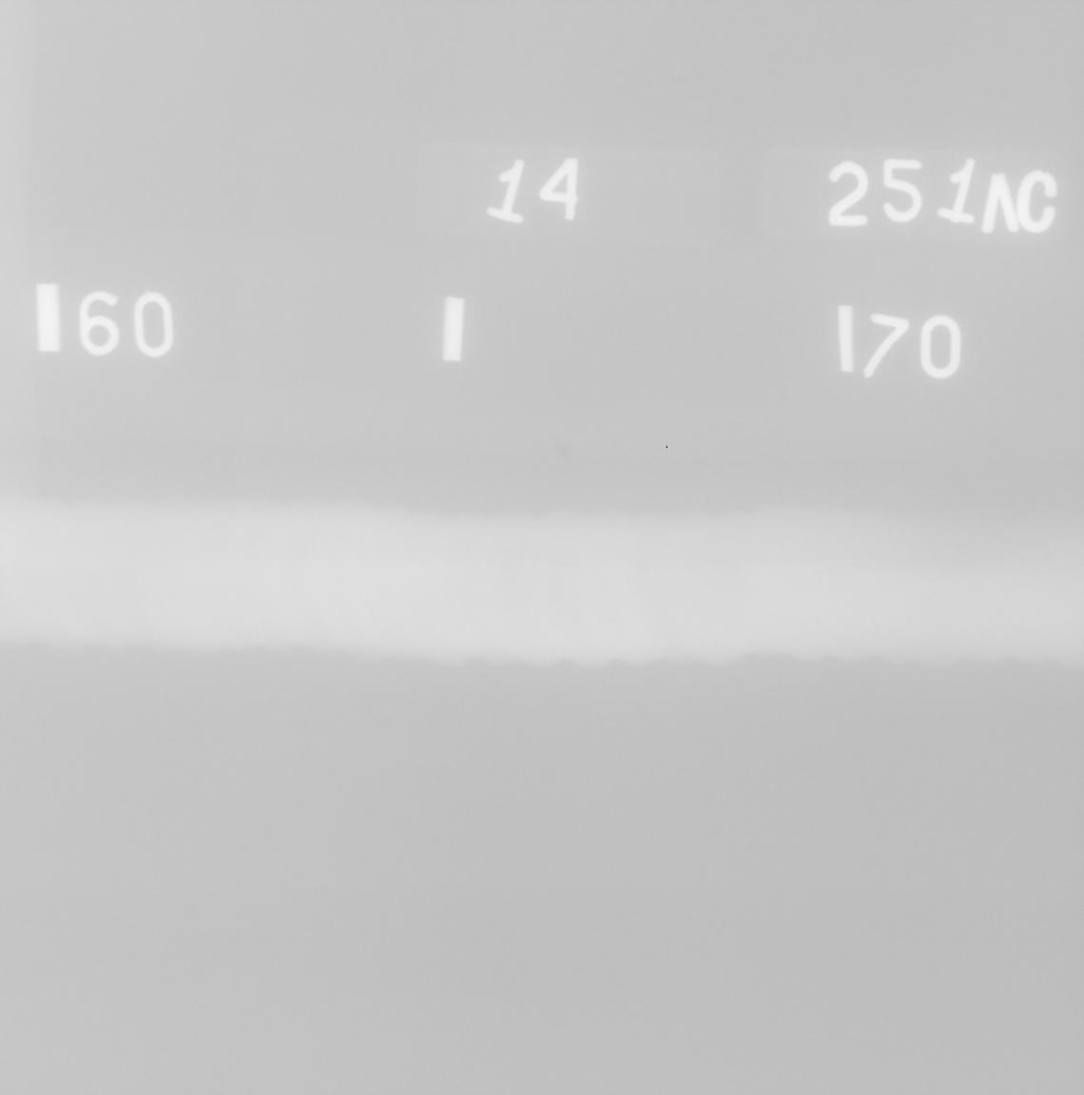Pore/Porosity: (1044, 551, 1052, 556)
